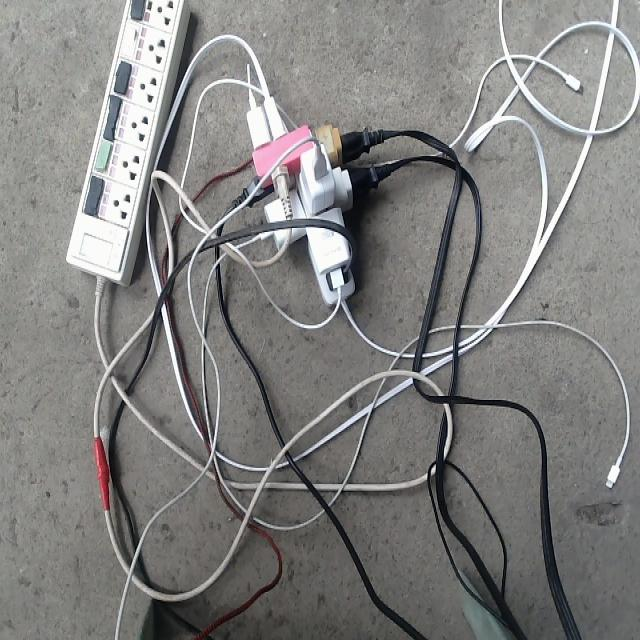-: (217, 18, 424, 378)
